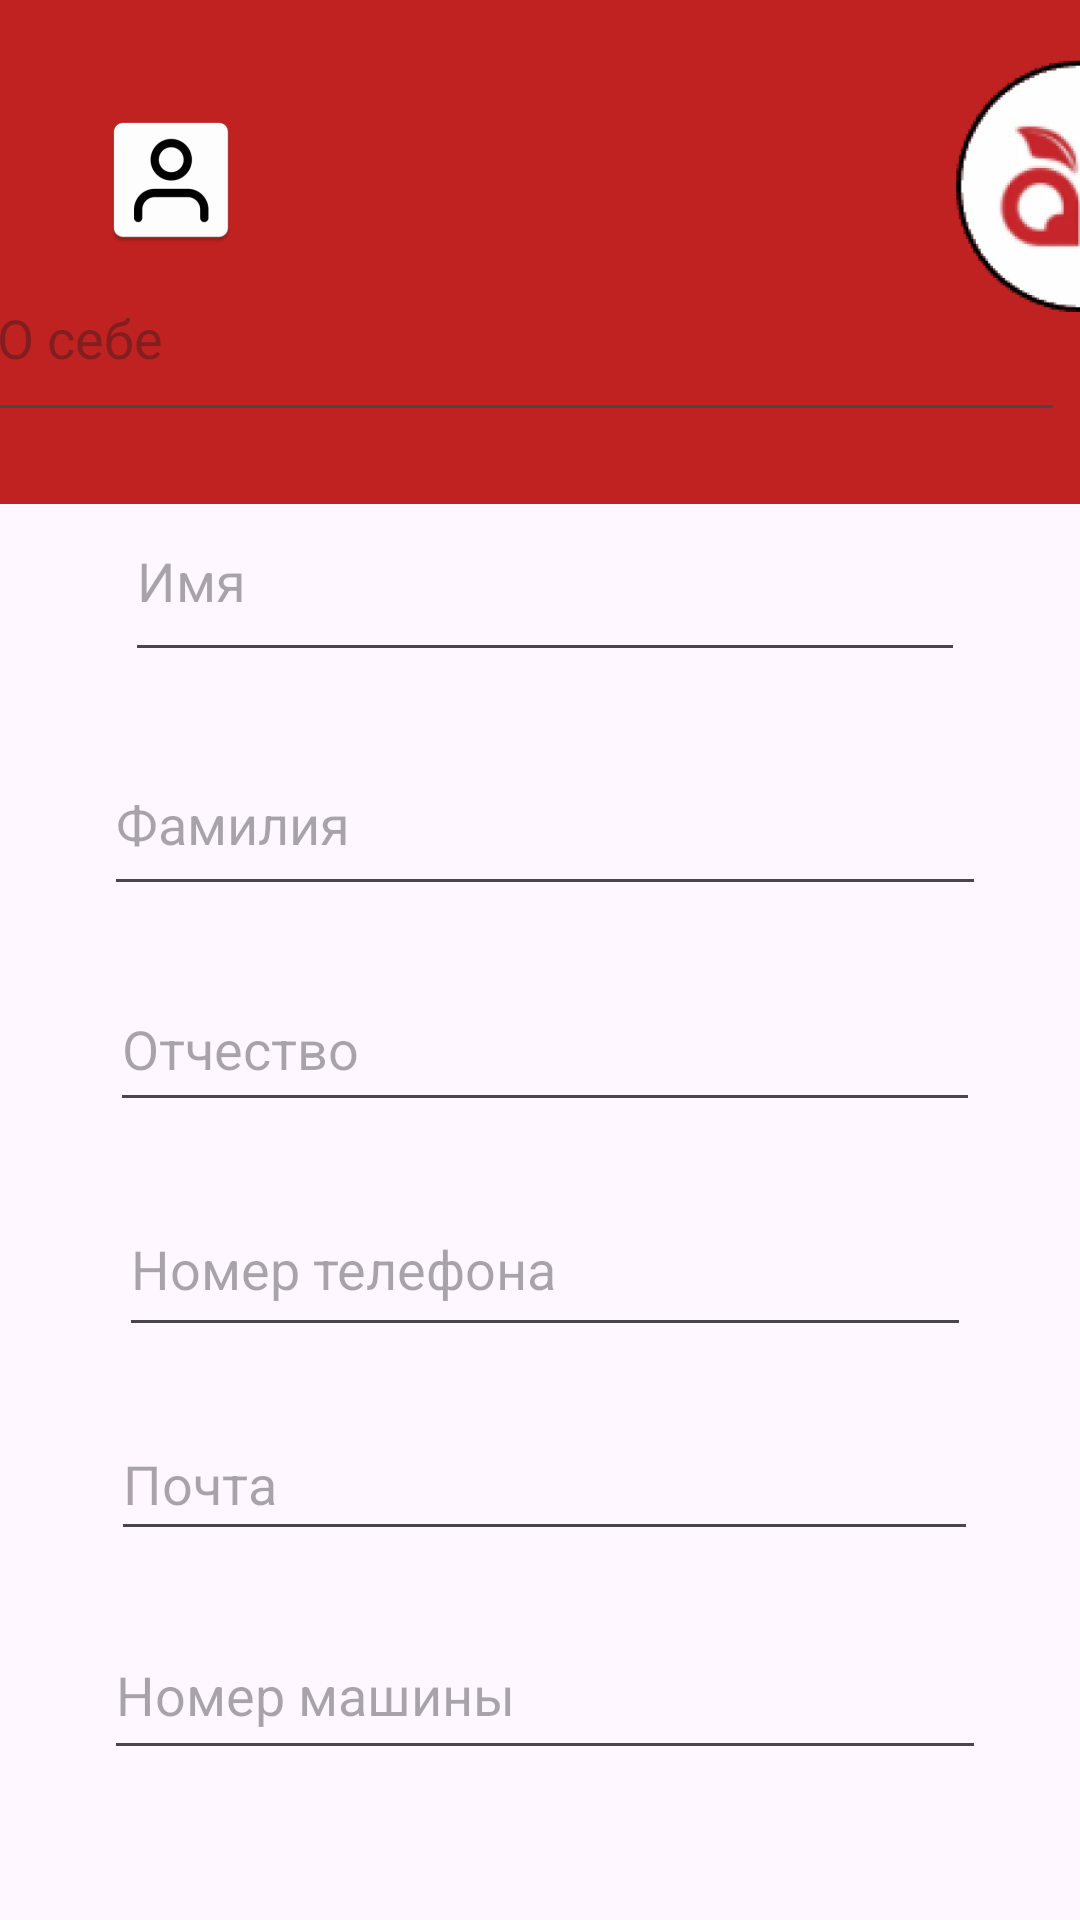

Where icons sit on this 1080×1920 app screen, as (x1=x1, y1=y1, x2=x2, y2=y2):
user: (x1=113, y1=122, x2=228, y2=240)
